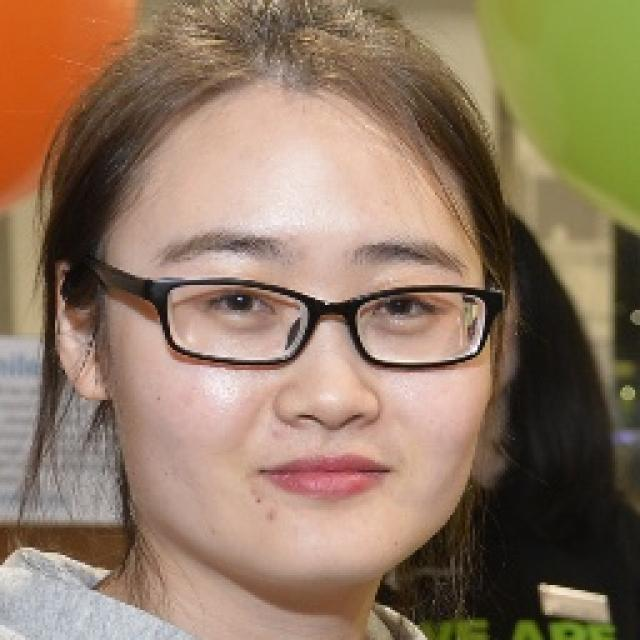earlobe: (72, 351, 110, 402)
eye: (194, 290, 270, 322), (372, 296, 441, 322)
nose: (285, 415, 375, 447)
wholeear: (53, 260, 110, 402)
